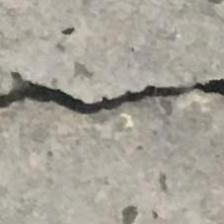Crack: (0, 69, 224, 160)
